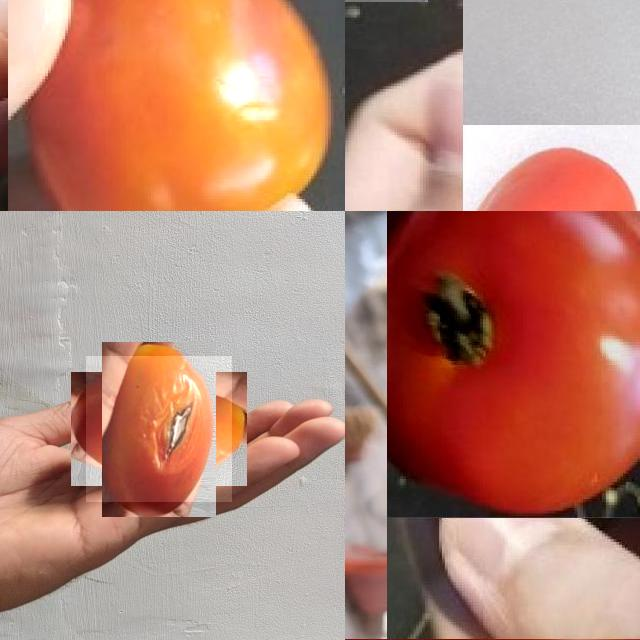Fresh Tomato: (387, 211, 640, 516), (8, 0, 345, 211), (463, 124, 640, 211)
Rotten Tomato: (86, 356, 232, 502)
